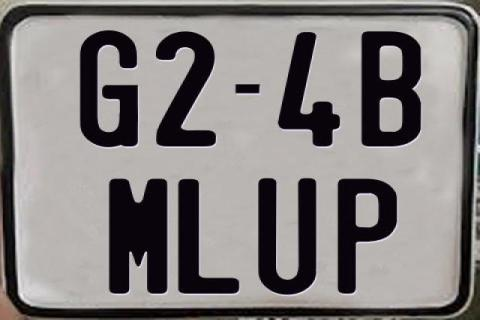0: (154, 30, 219, 148), (276, 30, 339, 148)
B: (360, 29, 422, 147)
G: (80, 31, 142, 147)
L: (176, 177, 237, 293)
M: (106, 178, 170, 296)
P: (335, 178, 394, 298)
U: (258, 177, 318, 297)
